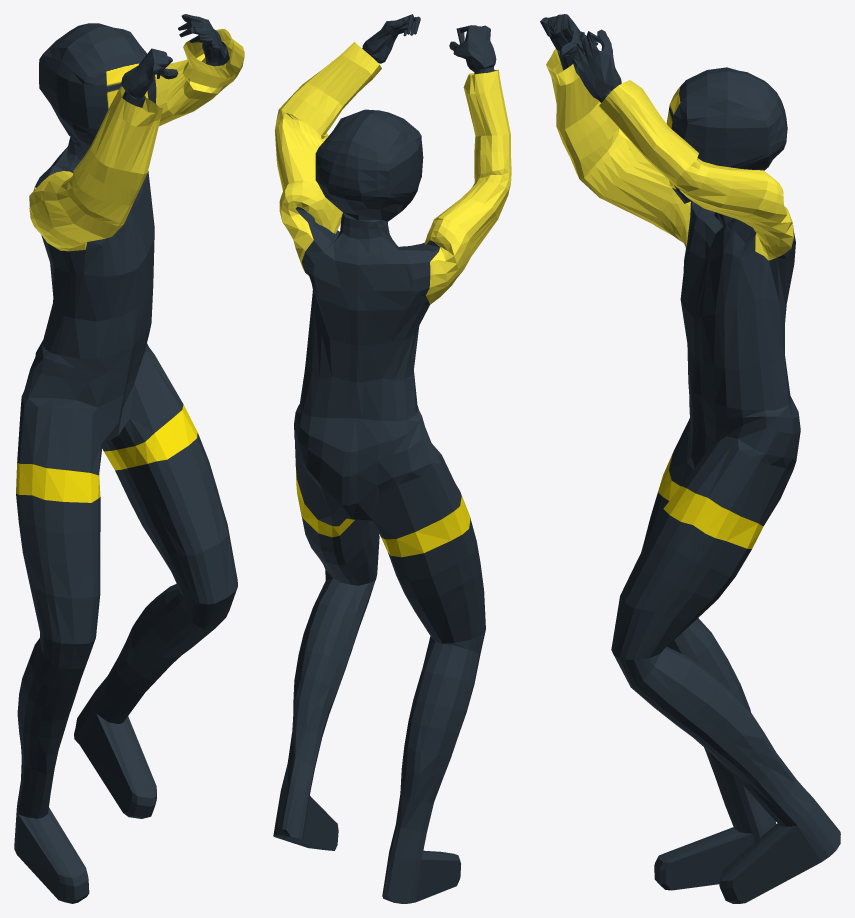
Rendered from Sentry_Attack_000006.obj.
The picture shows the model from 3 angles, left to right: view 1: azimuth 30°, elevation 25°; view 2: azimuth 150°, elevation 25°; view 3: azimuth 270°, elevation 25°; orthographic projection. The views are drawn at different scales.
Visible parts, largest first — view 1: Cube; view 2: Cube; view 3: Cube.
Boxes of the visible parts, <box> form: Cube: <box>14,14,244,903</box>; Cube: <box>273,14,511,903</box>; Cube: <box>540,14,840,903</box>.
Size of the model in its own units: 1.04 by 4.11 by 1.25.
